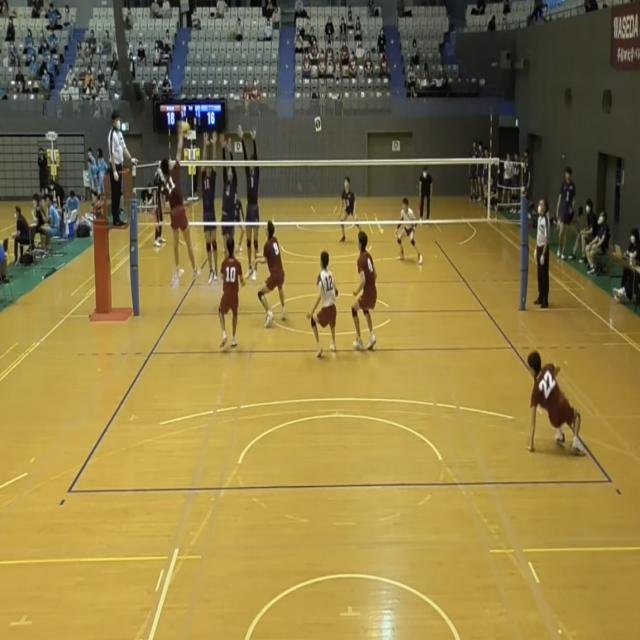spike: (157, 117, 205, 288)
